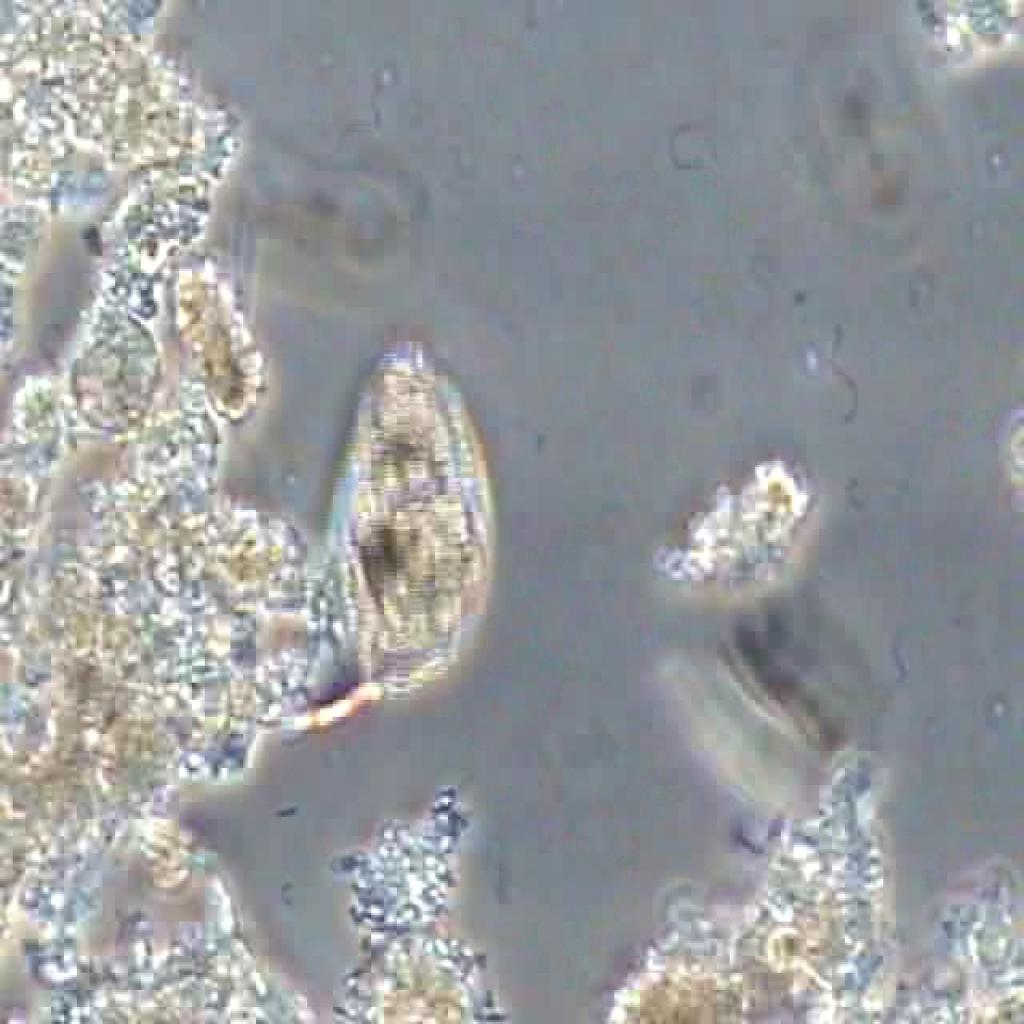Rotatoria: (320, 331, 502, 738)
